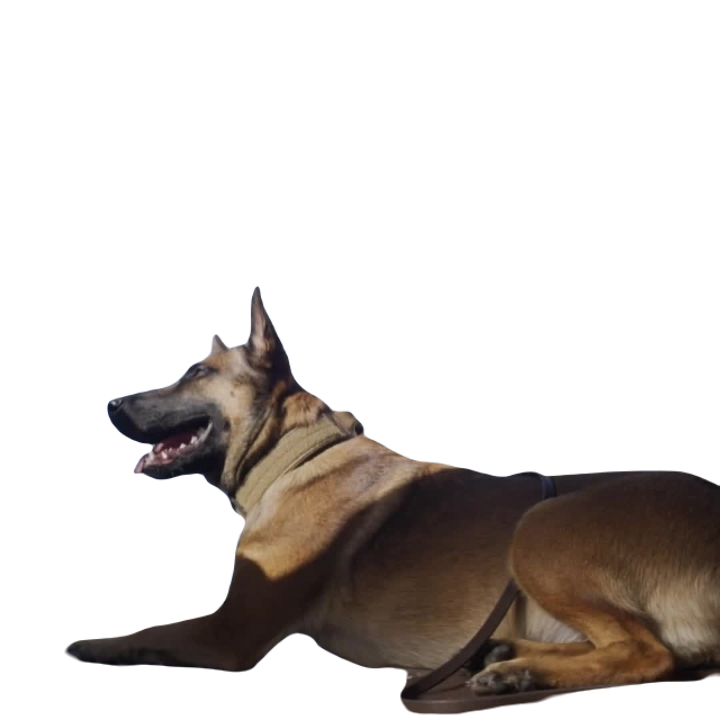Dog: (23, 300, 719, 720)
